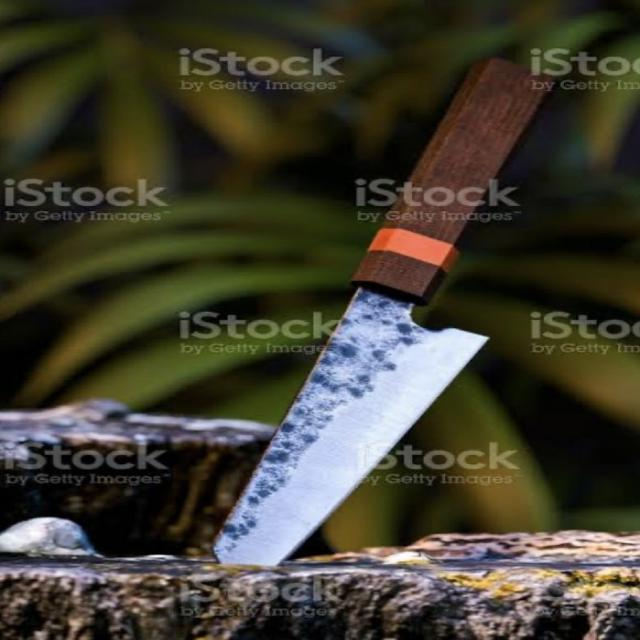Knife: (201, 62, 559, 574)
